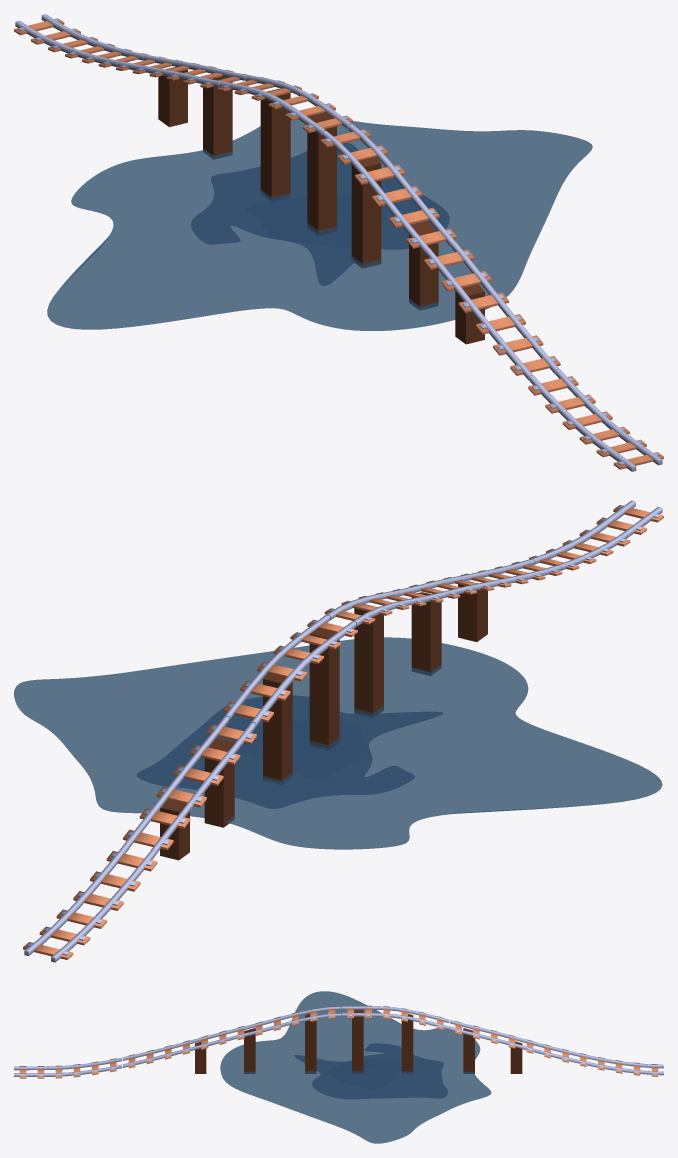
File: straight-rise2.glb
3 renders of one model, top to bottom at view 1: azimuth 30°, elevation 25°; view 2: azimuth 150°, elevation 25°; view 3: azimuth 270°, elevation 25°, orthographic. The views are drawn at different scales.
Visible parts, largest first — view 1: Plane.002, Plane.001, railroad-straight.028, railroad-straight.027, railroad-straight.026, Cube.006, Cube.005, Cube.004, railroad-straight.025, Cube.003, railroad-straight.024, Cube.002 (+2 smaller); view 2: Plane.002, Plane.001, railroad-straight.028, railroad-straight.024, railroad-straight.025, Cube.006, railroad-straight.026, Cube.004, Cube.005, Cube.002, railroad-straight.027, Cube.003 (+2 smaller); view 3: Plane.002, Plane.001, railroad-straight.028, railroad-straight.027, railroad-straight.026, railroad-straight.025, railroad-straight.024, Cube.006, Cube.005, Cube.004, Cube.002, Cube.003 (+2 smaller).
Part boxes in pixels (left/top/right/bottom): Plane.002: left=47, top=119, right=592, bottom=330; Plane.001: left=191, top=143, right=448, bottom=285; railroad-straight.028: left=218, top=75, right=456, bottom=253; railroad-straight.027: left=424, top=242, right=560, bottom=380; railroad-straight.026: left=528, top=369, right=663, bottom=471; Cube.006: left=307, top=112, right=336, bottom=233; Cube.005: left=260, top=88, right=290, bottom=199; Cube.004: left=351, top=156, right=381, bottom=267; railroad-straight.025: left=14, top=14, right=148, bottom=67; Cube.003: left=203, top=76, right=232, bottom=158; railroad-straight.024: left=116, top=55, right=249, bottom=88; Cube.002: left=409, top=221, right=438, bottom=309; Plane.002: left=14, top=637, right=662, bottom=849; Plane.001: left=137, top=696, right=442, bottom=808; railroad-straight.028: left=223, top=582, right=460, bottom=726; railroad-straight.024: left=123, top=716, right=256, bottom=854; railroad-straight.025: left=23, top=843, right=157, bottom=962; Cube.006: left=309, top=627, right=339, bottom=748; railroad-straight.026: left=529, top=500, right=663, bottom=570; Cube.004: left=354, top=604, right=383, bottom=715; Cube.005: left=263, top=665, right=292, bottom=782; Cube.002: left=411, top=592, right=441, bottom=675; railroad-straight.027: left=426, top=559, right=562, bottom=594; Cube.003: left=204, top=738, right=234, bottom=827; Plane.002: left=220, top=991, right=491, bottom=1143; Plane.001: left=294, top=1044, right=447, bottom=1098; railroad-straight.028: left=232, top=1005, right=449, bottom=1040; railroad-straight.027: left=123, top=1029, right=231, bottom=1068; railroad-straight.026: left=14, top=1057, right=122, bottom=1078; railroad-straight.025: left=556, top=1048, right=663, bottom=1076; railroad-straight.024: left=449, top=1020, right=556, bottom=1058; Cube.006: left=352, top=1009, right=363, bottom=1072; Cube.005: left=401, top=1013, right=413, bottom=1072; Cube.004: left=305, top=1014, right=316, bottom=1073; Cube.002: left=244, top=1028, right=255, bottom=1073; Cube.003: left=463, top=1028, right=474, bottom=1073.
Size of the model in its own units: 13.37 by 2.53 by 24.08.
Materials: 4 (1 with a texture image).
